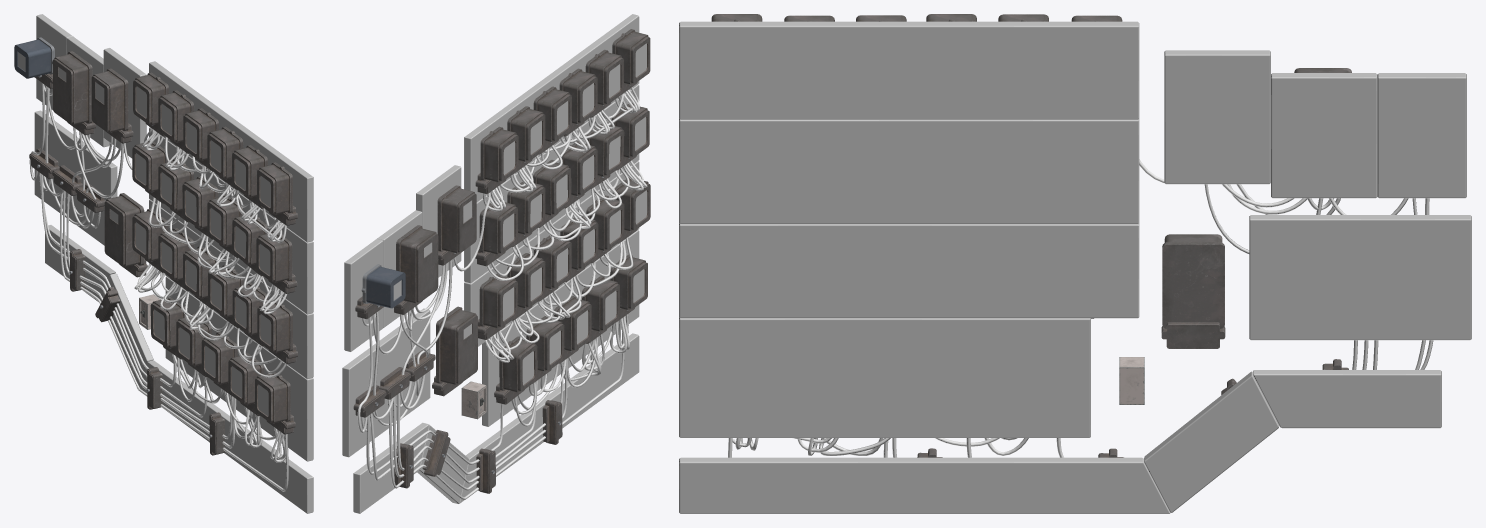
File: ElectricalBoard_C.fbx
3 views of the same model, side by side, from view 1: azimuth 30°, elevation 25°; view 2: azimuth 150°, elevation 25°; view 3: azimuth 270°, elevation 25° (orthographic). The views are drawn at different scales.
Visible parts, largest first — view 1: ElectricalBoard_C; view 2: ElectricalBoard_C; view 3: ElectricalBoard_C.
Part boxes in pixels (x1=…): ElectricalBoard_C: x1=14, y1=14, x2=313, y2=513; ElectricalBoard_C: x1=342, y1=14, x2=650, y2=513; ElectricalBoard_C: x1=679, y1=14, x2=1471, y2=513.
Bounding box in the file's own units: 20.34 × 181 × 265.
